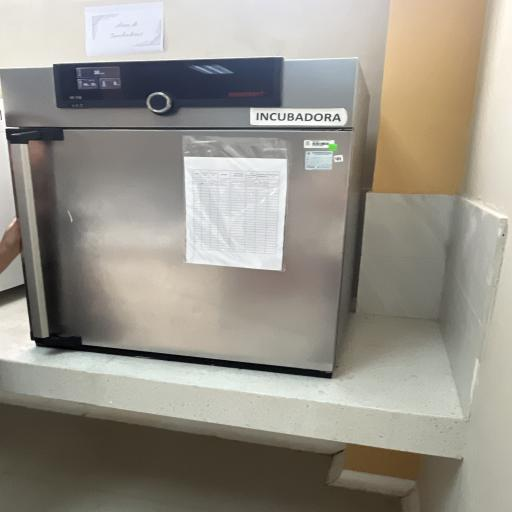Incubadora: (0, 50, 392, 386)
